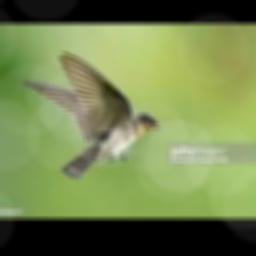Swallow: (22, 53, 163, 179)
